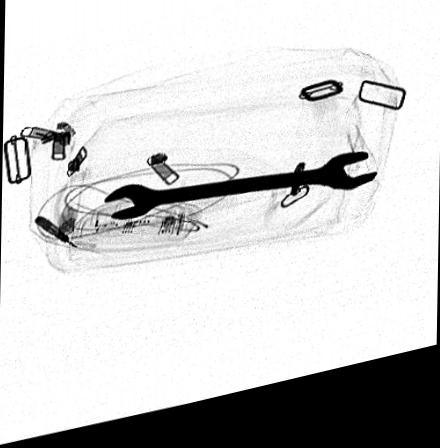Wrench: (101, 167, 377, 225)
